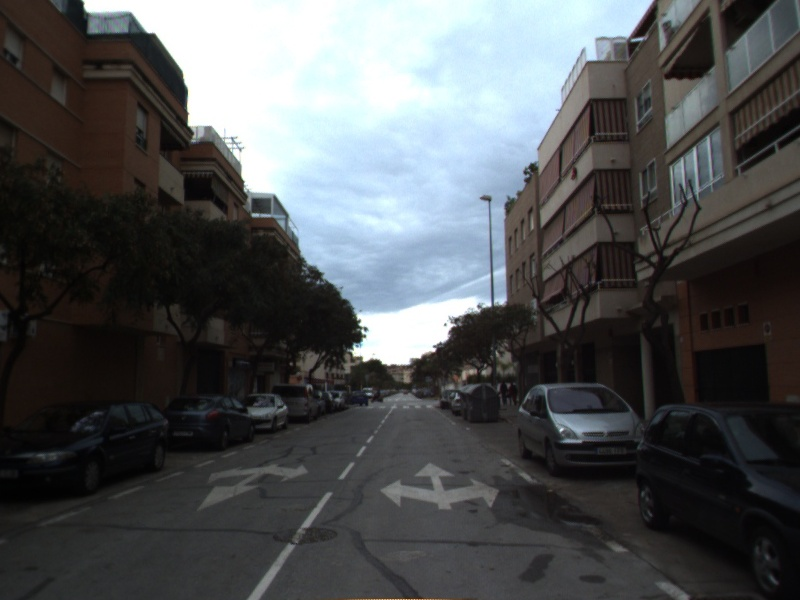STRAIGHT_LEFT_RIGHT: (378, 460, 502, 512)
